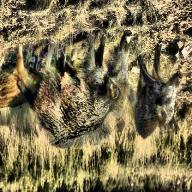boar: (22, 18, 156, 160), (97, 47, 192, 163)
